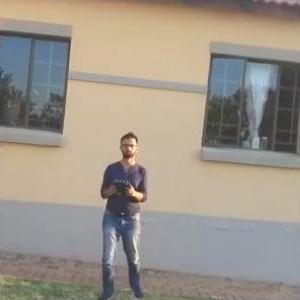follow: (91, 127, 152, 299)
